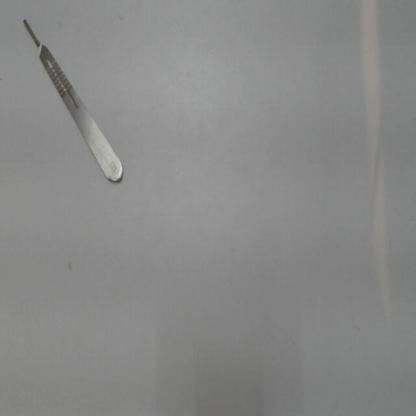No.3 BP Handle: (15, 6, 134, 198)
